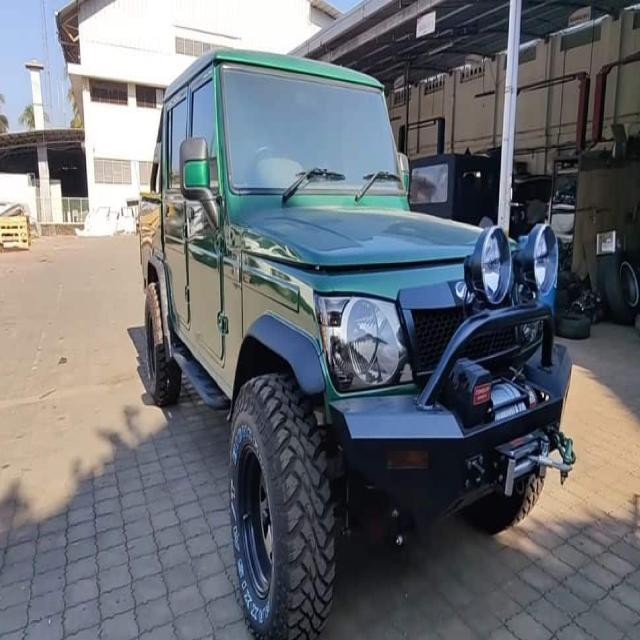light_vehicle: (138, 50, 577, 640)
